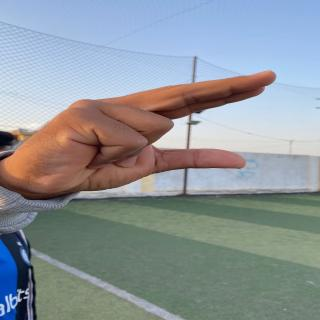DHELL: (13, 66, 310, 186)
